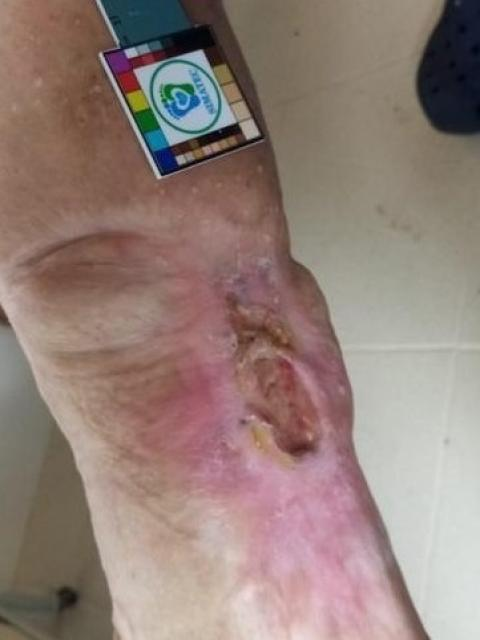wound: (221, 254, 324, 462)
